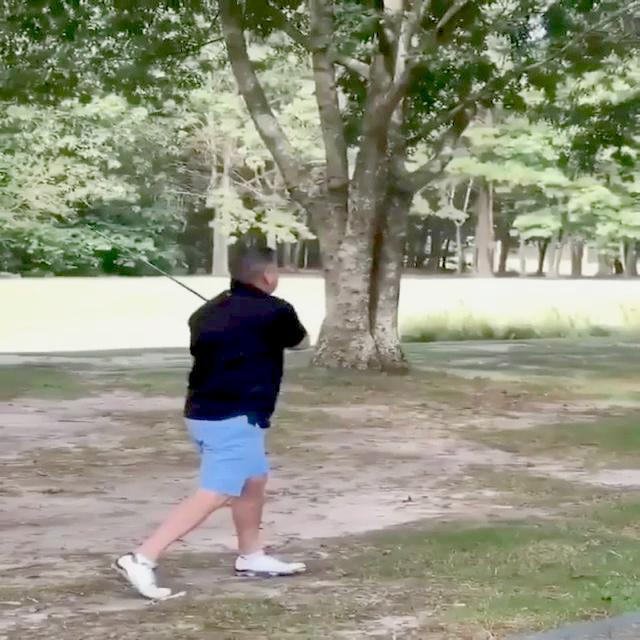golf club-handle: (86, 223, 210, 303)
golf club-head: (86, 223, 96, 230)
